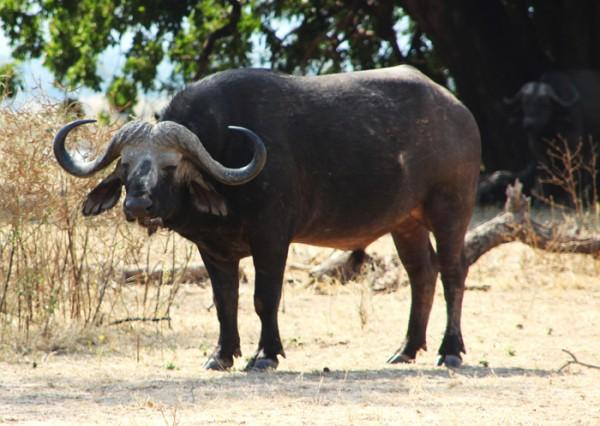Buffalo: (40, 67, 521, 366)
